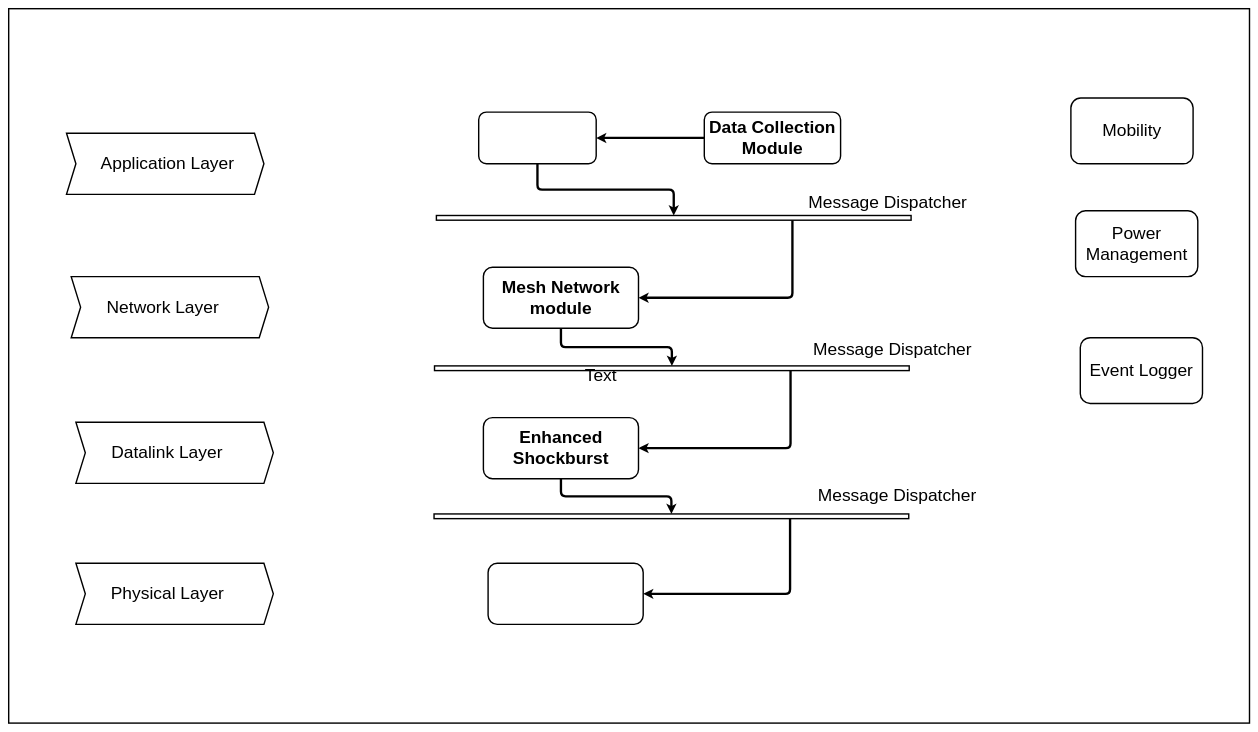
This 1258x732 diagram has some shape labels left out. Here are the shapes that lost their labels. From the top down, the centre of each, then its label:
the point at 537,137: App
the point at 565,593: NRF 2.4GHz
